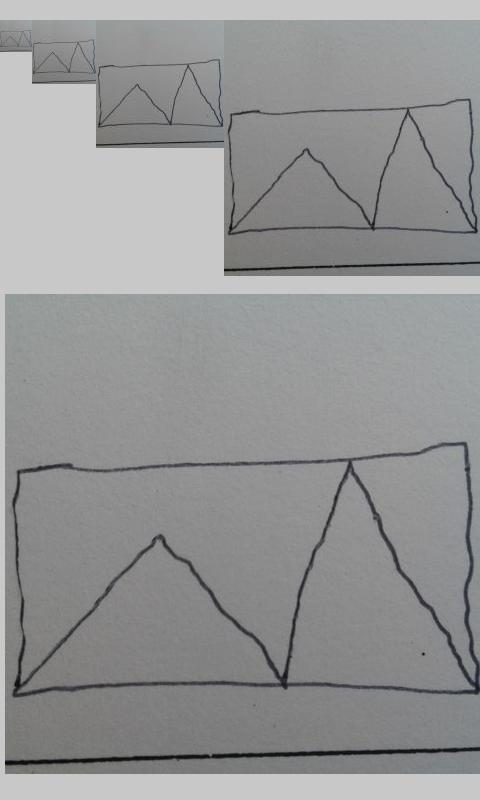image_view: (12, 441, 479, 705), (228, 98, 478, 238), (96, 59, 223, 130), (32, 39, 95, 74), (1, 29, 32, 48)
